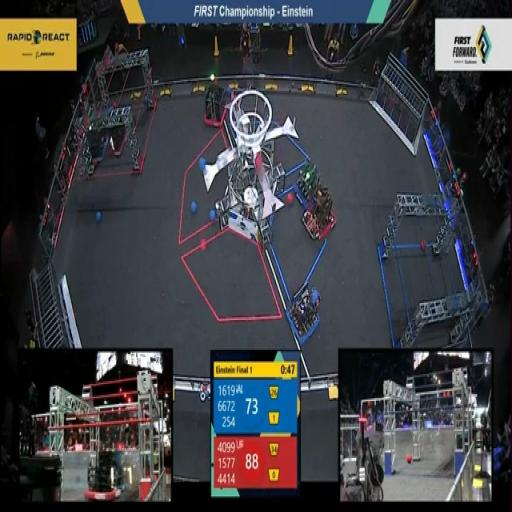robot: (278, 272, 329, 346), (298, 185, 338, 240), (290, 146, 322, 210), (198, 71, 229, 132)
